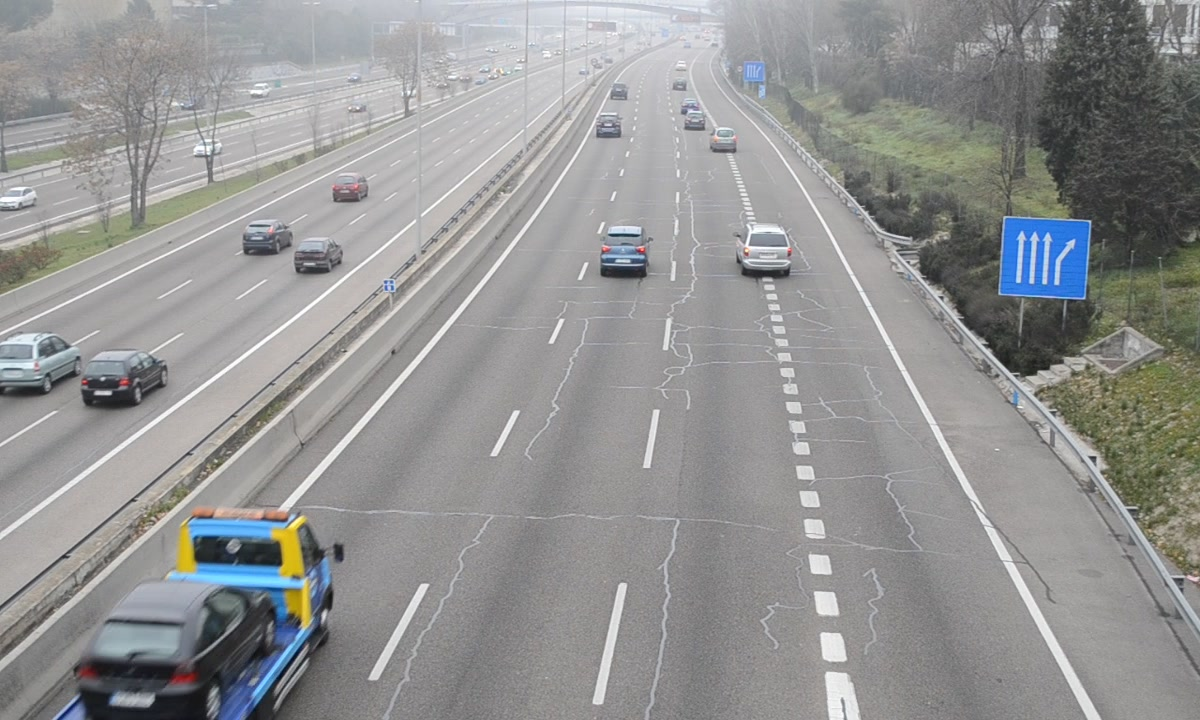car: (738, 225, 790, 274), (602, 227, 648, 274), (594, 111, 622, 140), (710, 126, 738, 153)
small-truck: (73, 507, 333, 720)
